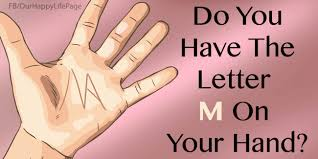palm: (34, 58, 115, 137)
